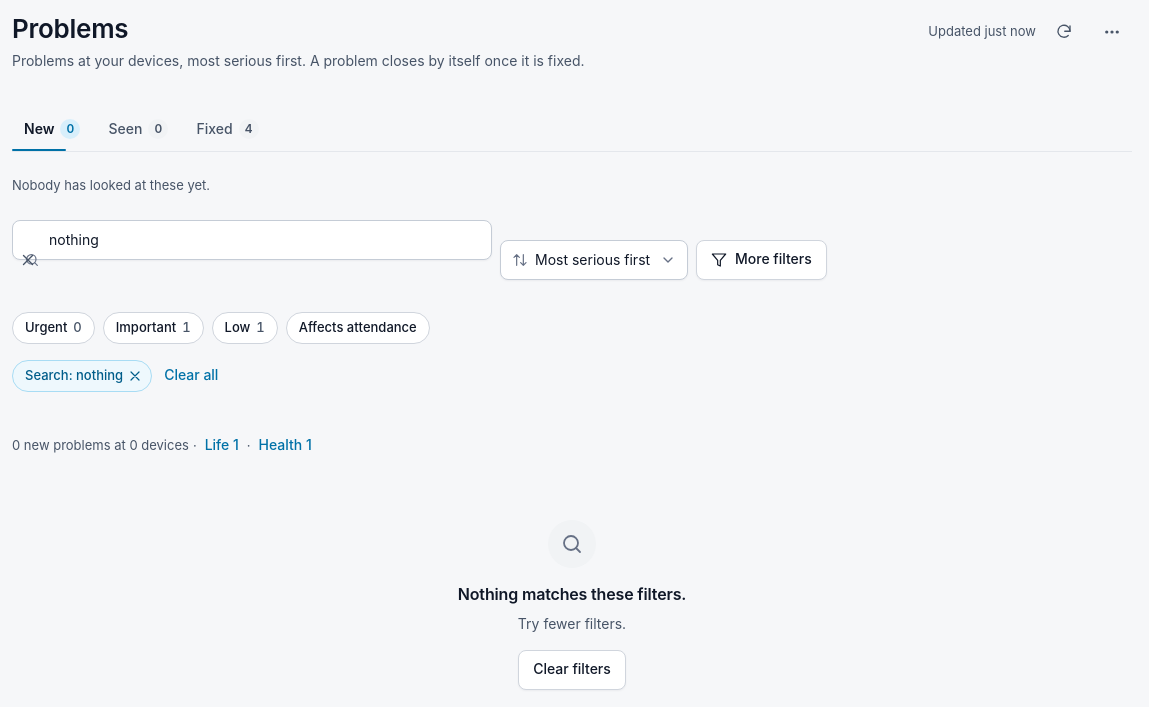
Test: Problems page › says when nothing matches the filters and when everything is clear
This screenshot has width=1149, height=707.
Expected: the heading "Nothing matches these filters." is shown, [458,584,686,605]
Click the button "Clear filters" at (572, 670), box [518,650,626,690]
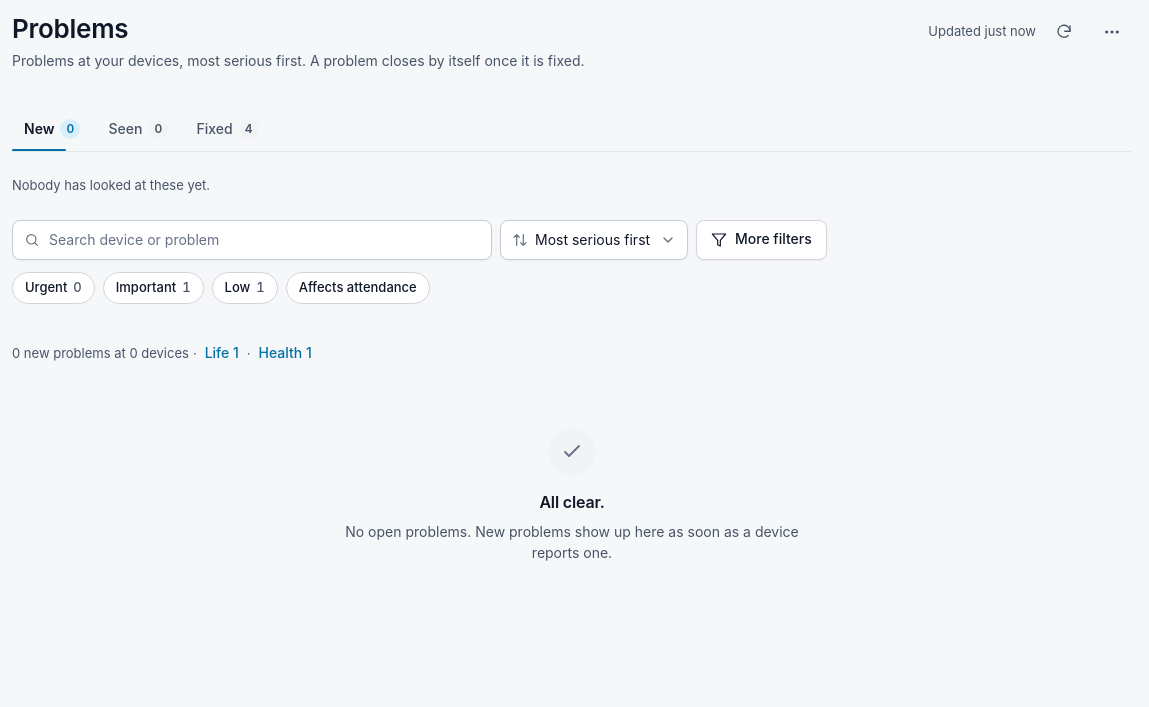
Result: the heading "All clear." is shown at [539,492,605,513]
